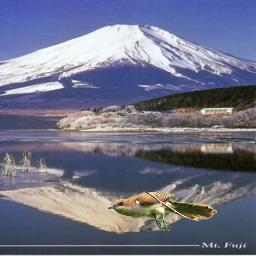Cuckoo: (107, 192, 218, 231)
